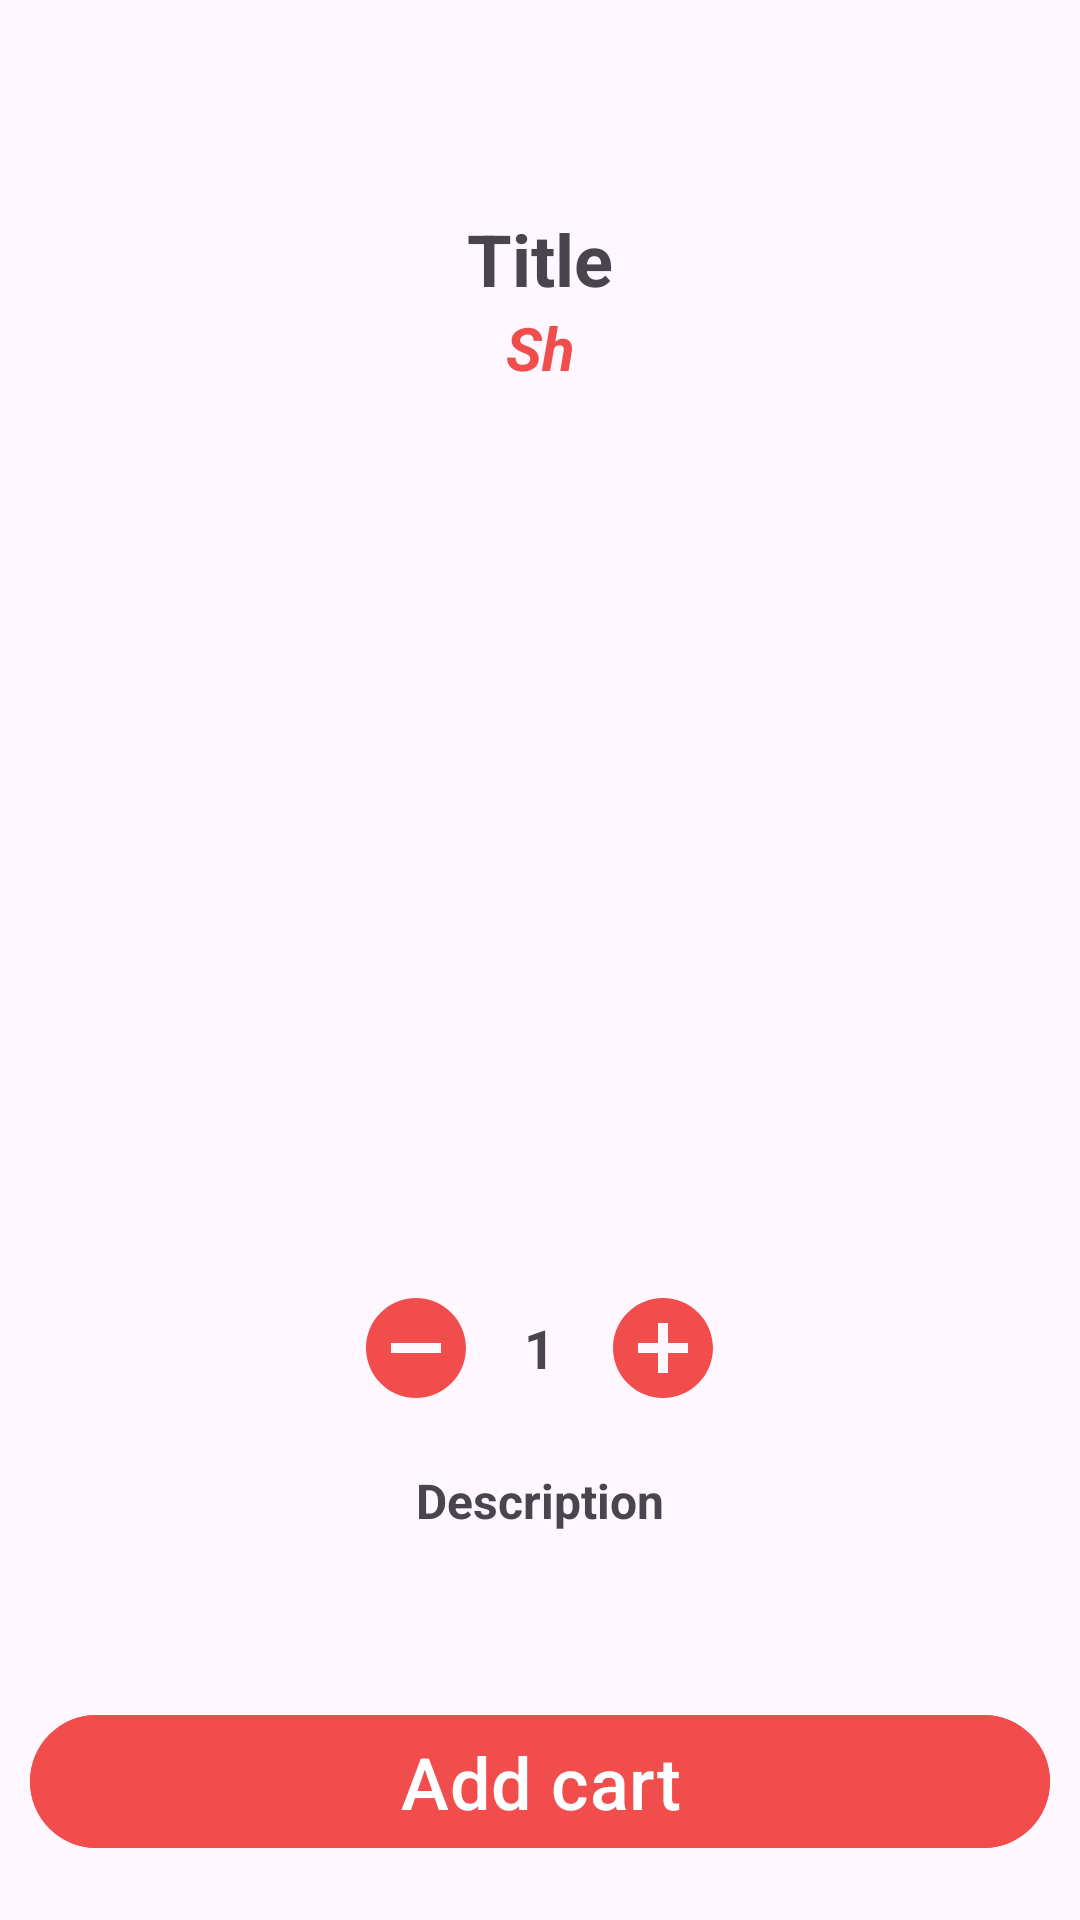

Where icons sit on this 1080px x 1920px app screen, as [x1=x1, y1=y1, x2=x2, y2=y2]:
add circle: [x1=613, y1=1298, x2=713, y2=1398]
remove circle: [x1=366, y1=1298, x2=466, y2=1398]
